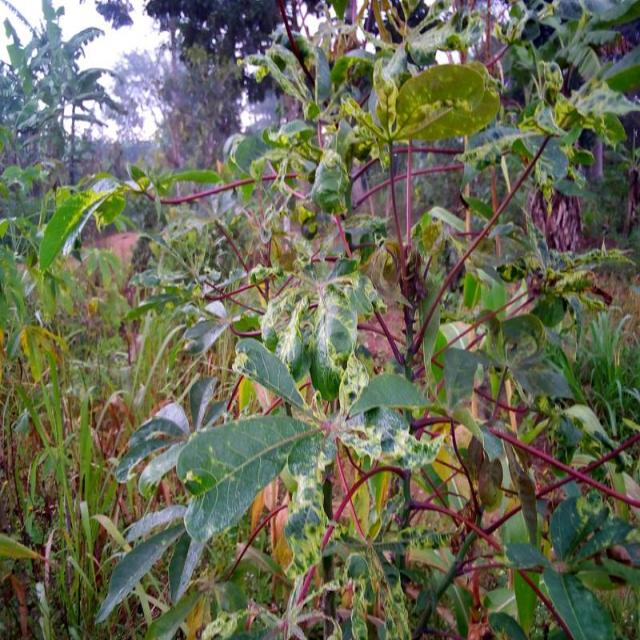cassava leaf: (175, 413, 325, 544), (369, 59, 500, 143)
